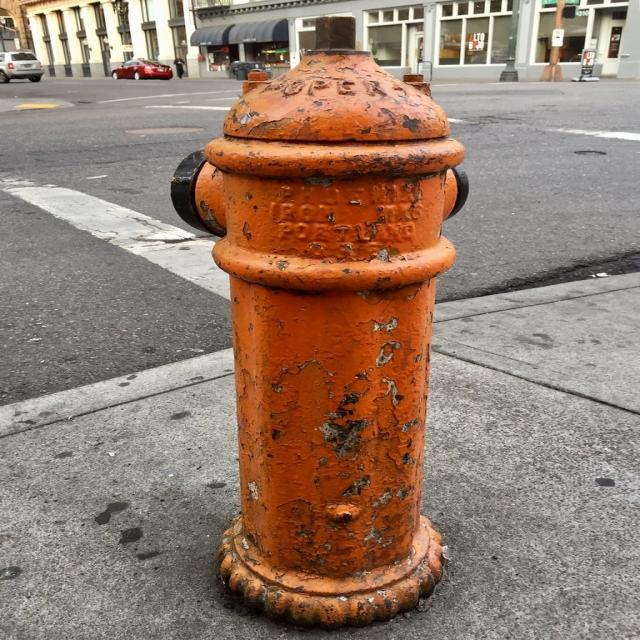fire_hydrant: (161, 44, 527, 626)
